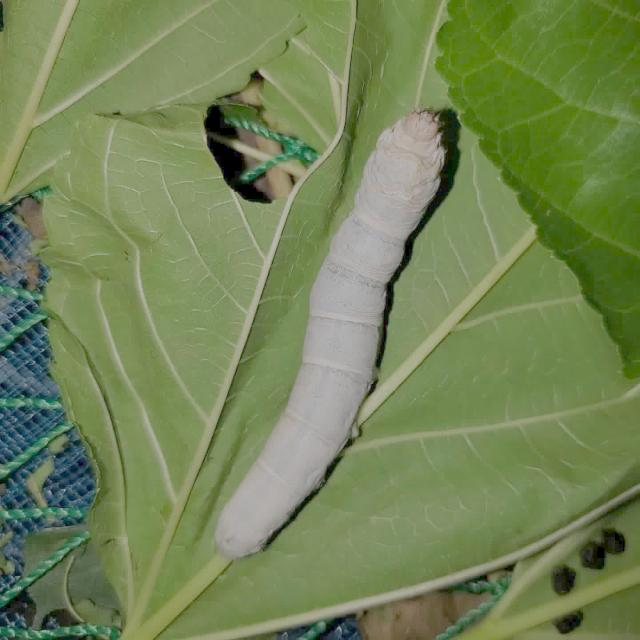Healthy: (199, 76, 478, 566)
